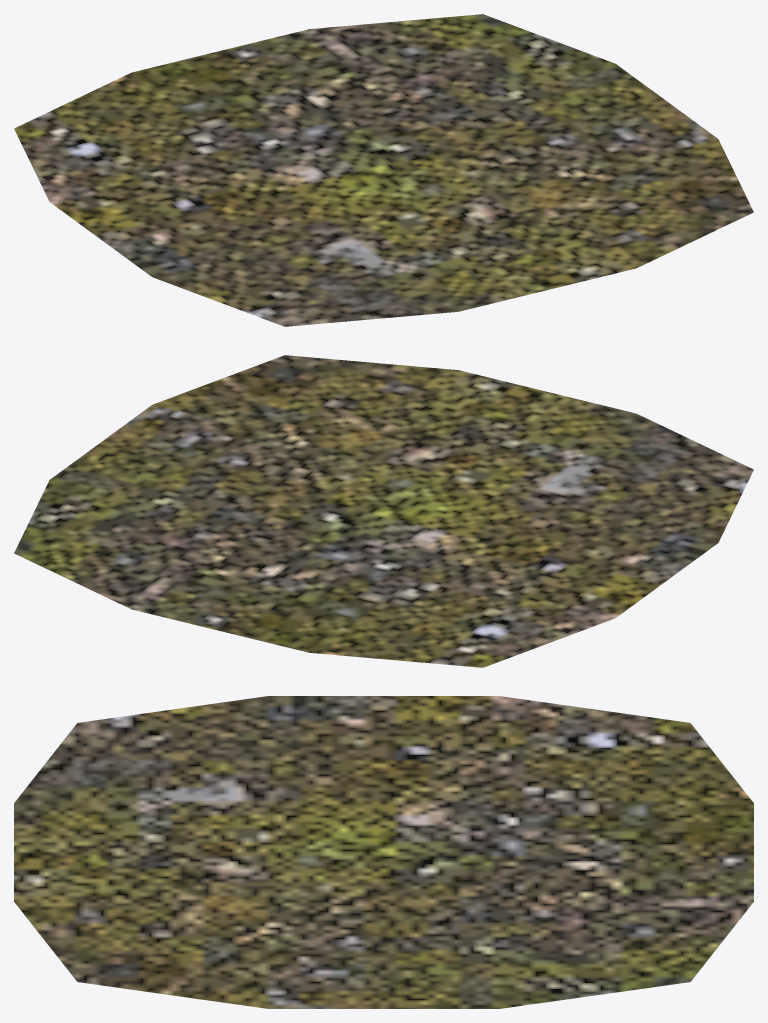
File: Emb_PlanterBalc_2x2_Dirt.FBX
3 renders of one model, top to bottom at view 1: azimuth 30°, elevation 25°; view 2: azimuth 150°, elevation 25°; view 3: azimuth 270°, elevation 25°, orthographic. The views are drawn at different scales.
Parts seen in each view (by area): view 1: Emb_PlanterBalc_2x2_Dirt; view 2: Emb_PlanterBalc_2x2_Dirt; view 3: Emb_PlanterBalc_2x2_Dirt.
Part boxes in pixels (x1,y1,x2,y2): Emb_PlanterBalc_2x2_Dirt: [14, 14, 753, 326]; Emb_PlanterBalc_2x2_Dirt: [14, 355, 753, 667]; Emb_PlanterBalc_2x2_Dirt: [14, 696, 753, 1008].
Size of the model in its own units: 1.36 by 3.33e-16 by 1.36.
